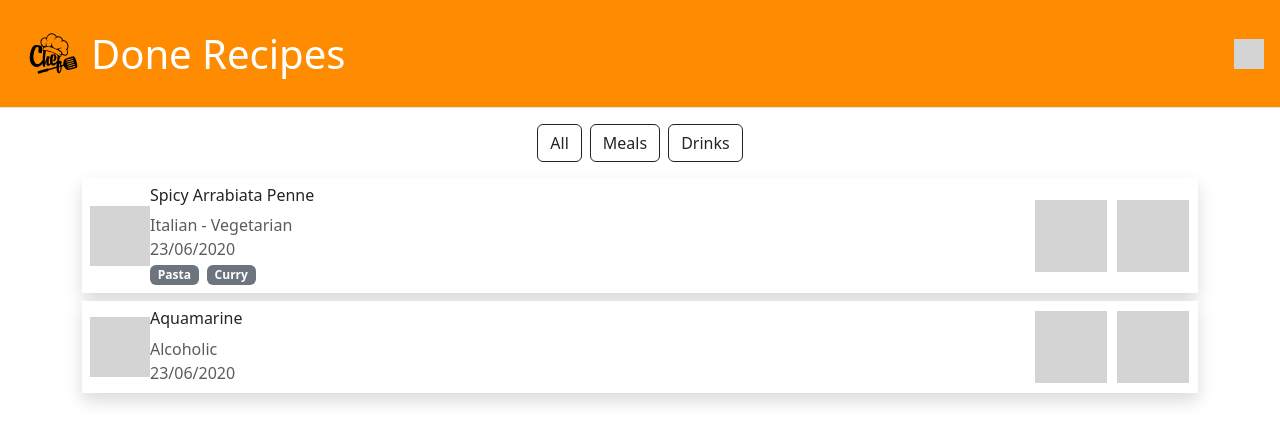
Scenario: Testa a pagina DoneRecipes › Ao clicar no botão "Drinks", as receitas devem ser filtradas por bebidas
Step 1. Click the button with test id "filter-by-drink-btn" → (705, 143), box [668,124,743,162]
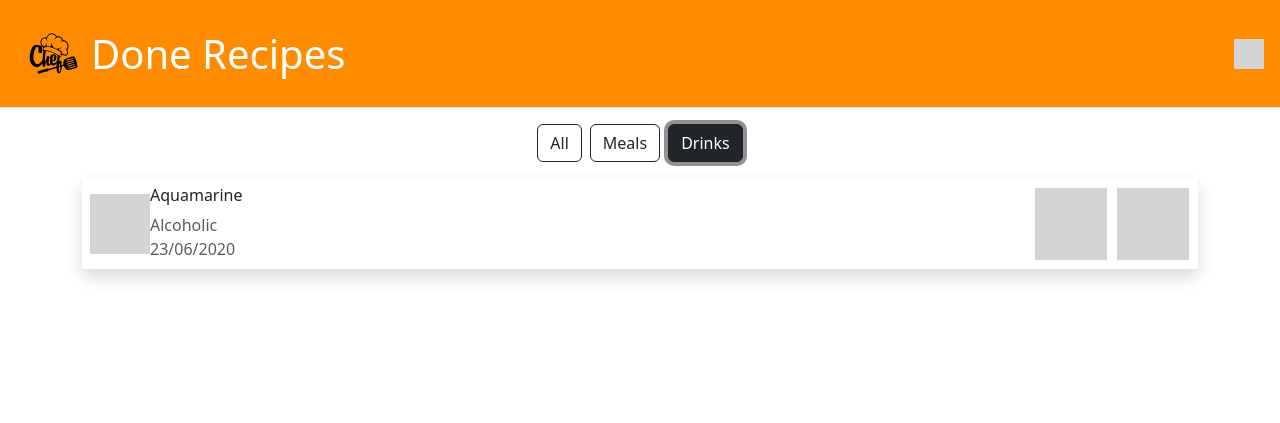
Check: the heading with test id "0-horizontal-name" reads "Aquamarine", box [150,184,242,206]
Check: the heading with test id "1-horizontal-name" is gone
